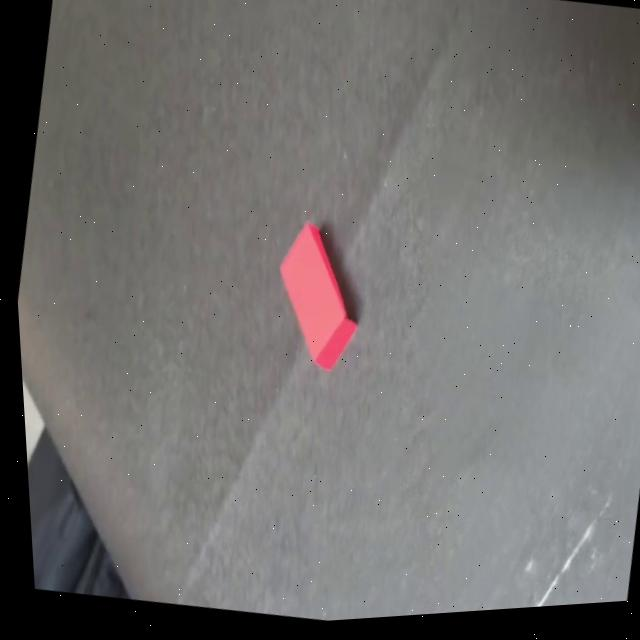red block: (258, 211, 375, 378)
